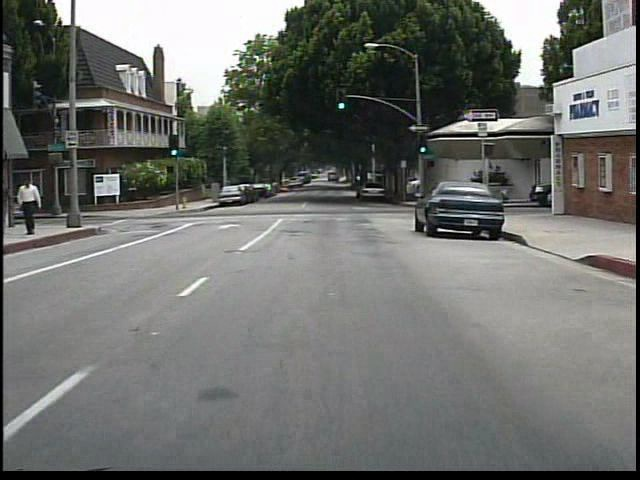person: (21, 177, 48, 238), (497, 170, 514, 205)
